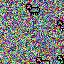sheep: (25, 4, 40, 15), (36, 57, 51, 64), (56, 19, 64, 32), (57, 55, 64, 64)
